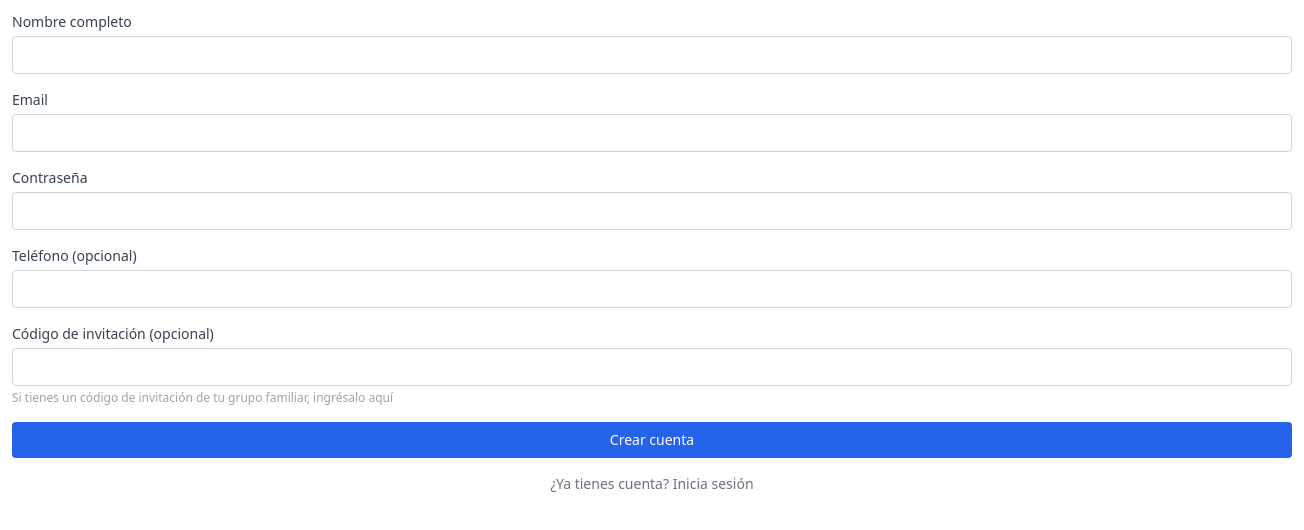
RegisterPage › shows error for empty full name
The image size is (1304, 530).
Step 1. Type "test@example.com" into the field labelled "Email" → (652, 133), box 12,114 -> 1292,152
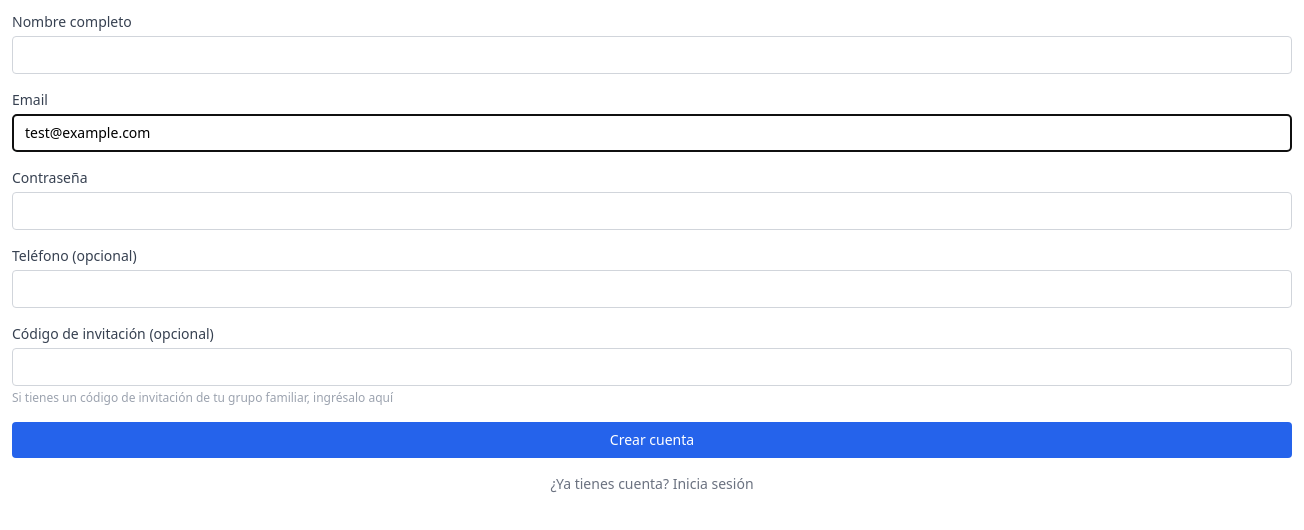
Step 2. Type "password123" into the password field labelled "Contraseña" → (652, 211), box 12,192 -> 1292,230
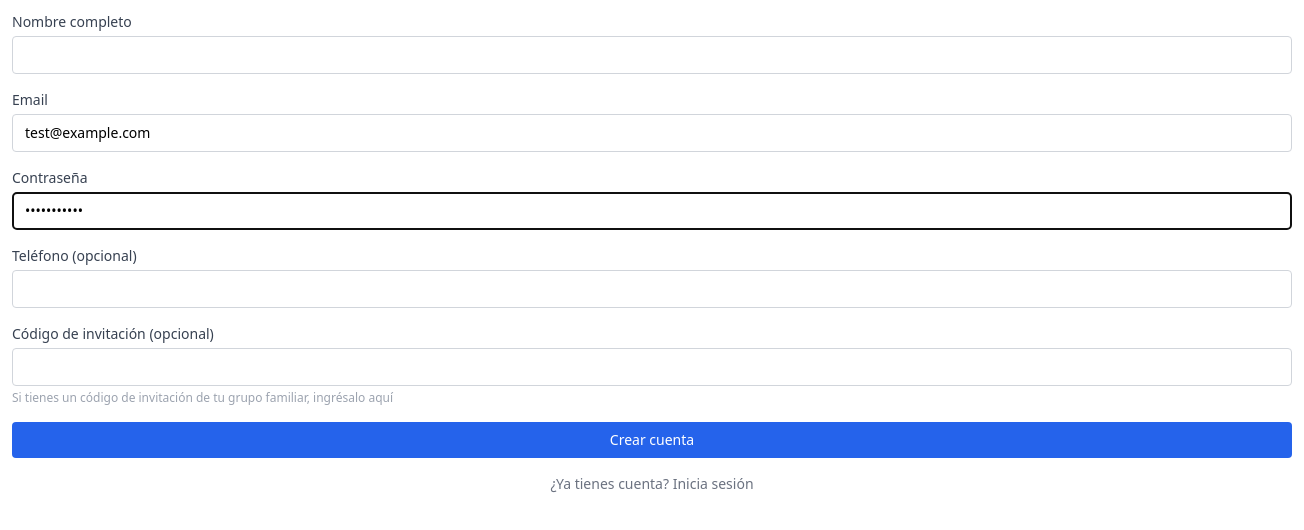
Step 3. Click the button "Crear cuenta" → (652, 440), box 12,422 -> 1292,458
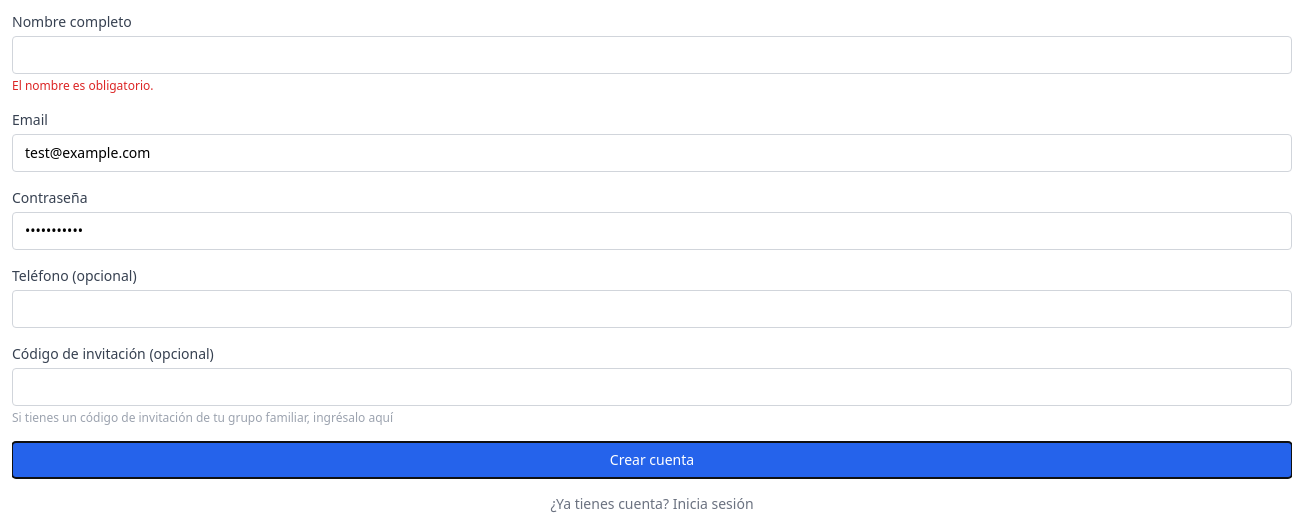
Expected: the text "El nombre es obligatorio." is shown, 12,77 -> 154,94
